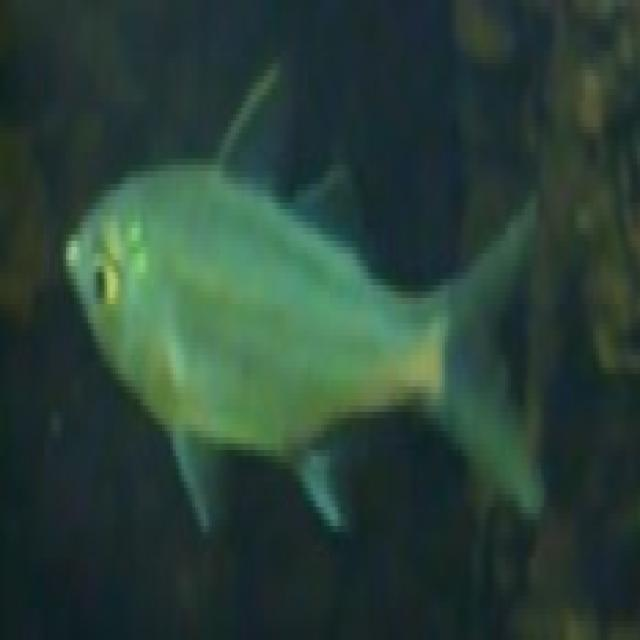Glass-Perchlet: (46, 56, 577, 565)
